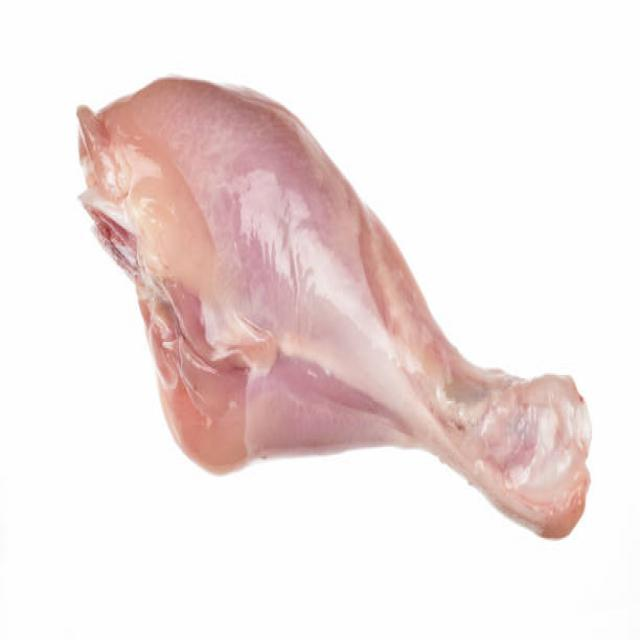chicken wing: (71, 67, 592, 548)
